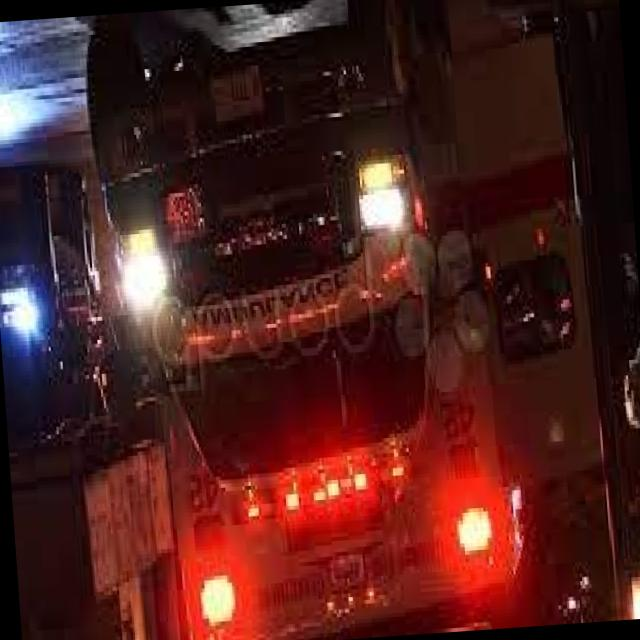ambulance: (175, 486, 503, 629)
